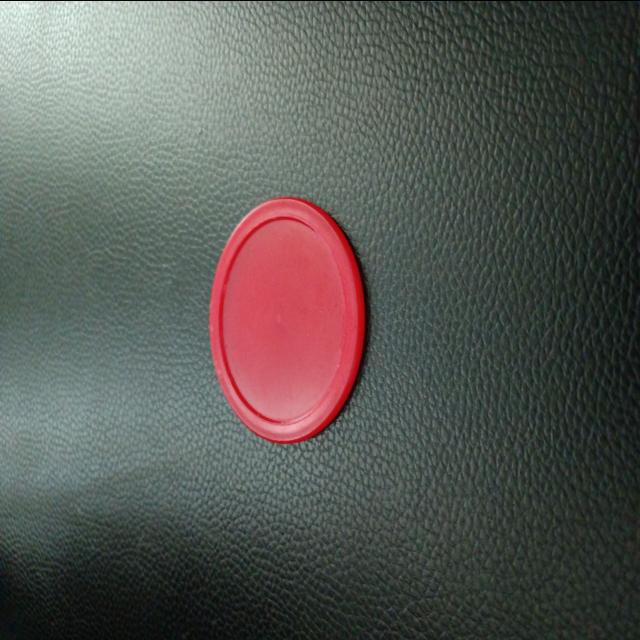chip: (204, 190, 367, 450)
